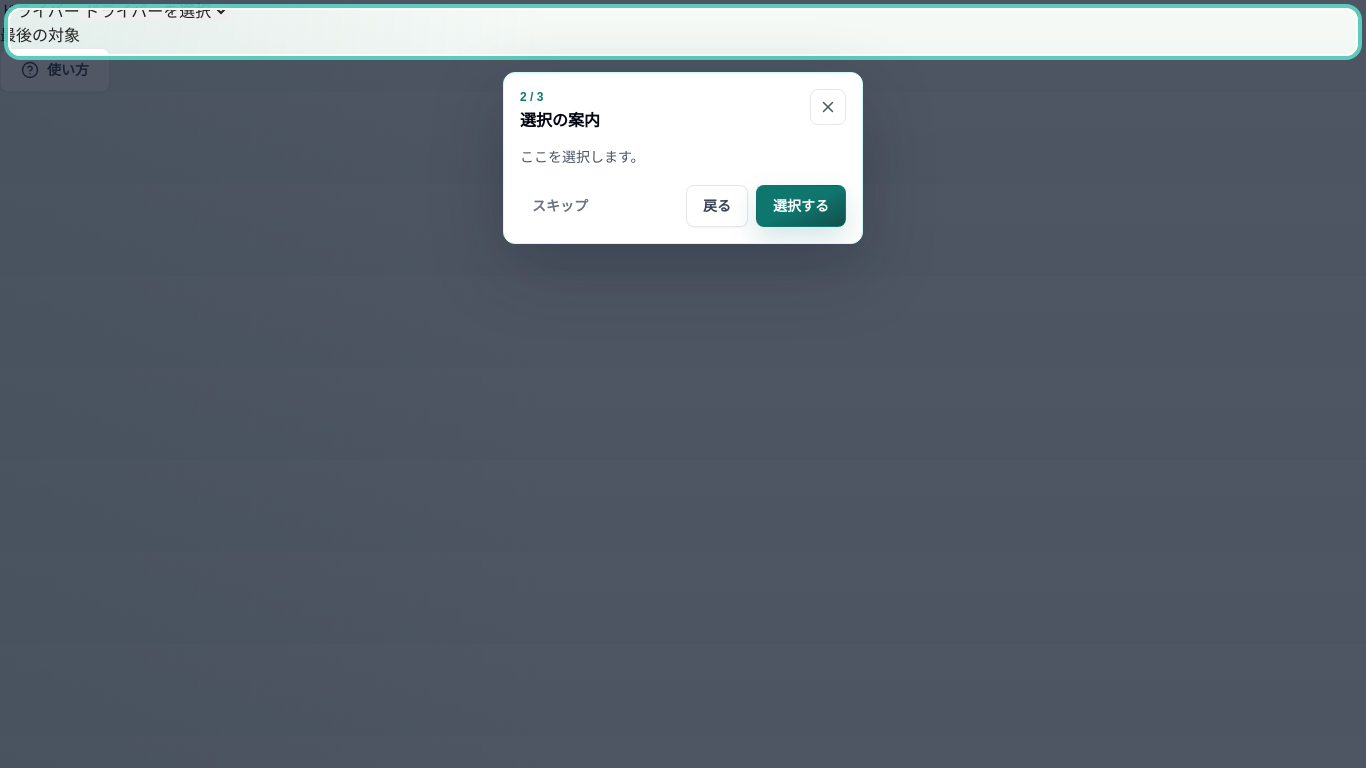
GuidedTour › dismisses to the requested input target instead of moving to the next step
The width and height of the screenshot is (1366, 768).
Expected: the heading "選択の案内" is shown, [520,109,600,133]
Click the button "選択する" at coordinates (801, 206), box [756,185,846,227]
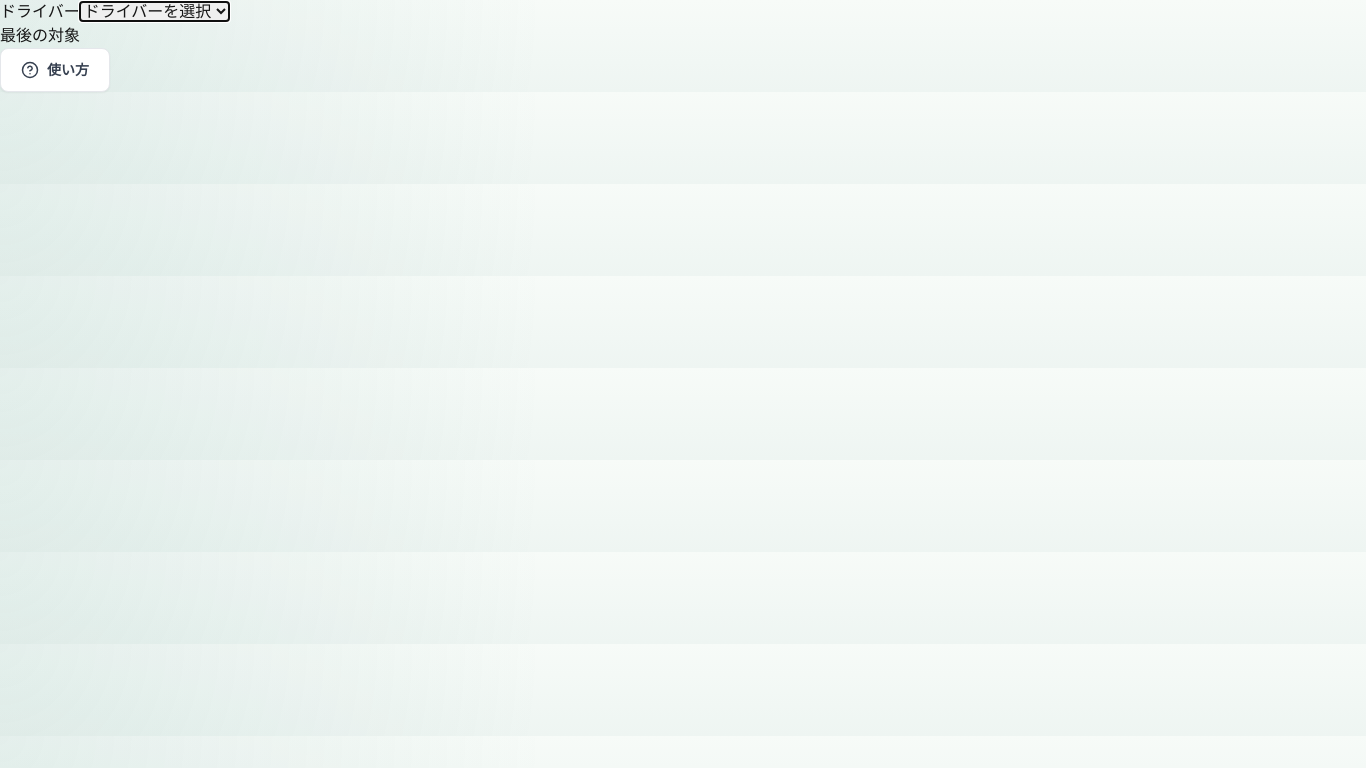
Expected: the dialog "使い方ガイド" is gone
